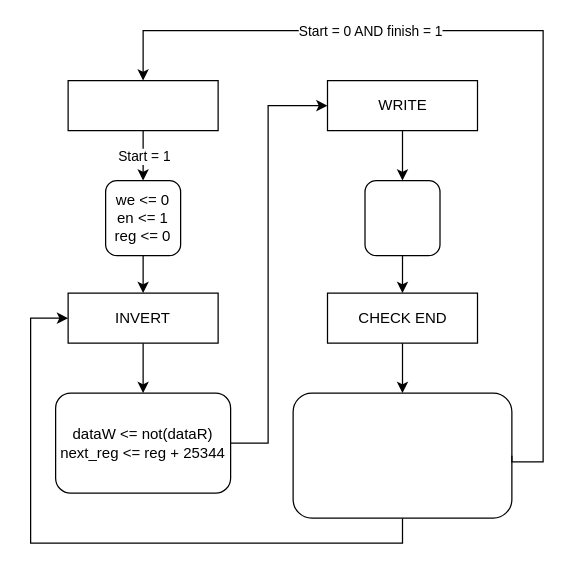
Image size: 575x575. Some labels were removed from this diagram. The shapes that lost their labels are listed below. From the top down, each one's box as (x1, y1, x2, y2) in pixels, then its label:
(67, 79, 218, 131): IDLE
(364, 179, 440, 256): we <= 1 en <= 1
(292, 392, 512, 518): we <= 0 if reg /= 5688 next_reg <= reg - 25343 else en <= 0 finish <= 1
